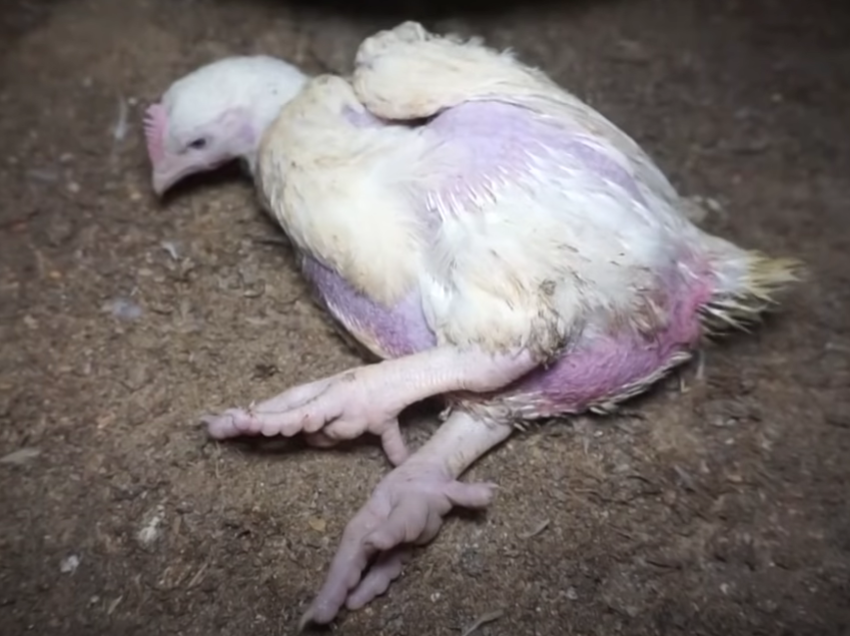Unhealthy: (132, 25, 792, 604)
